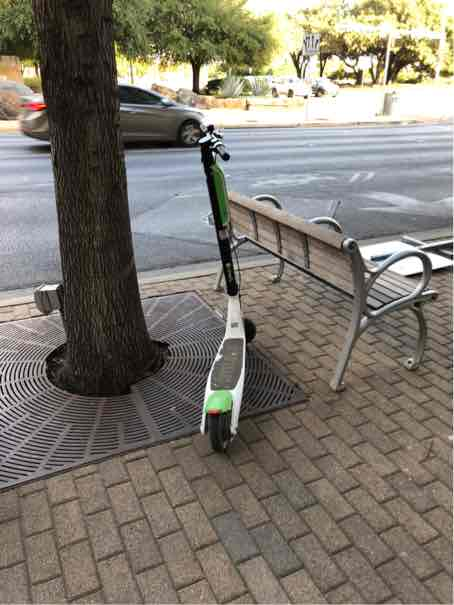scooter: (128, 120, 279, 454)
